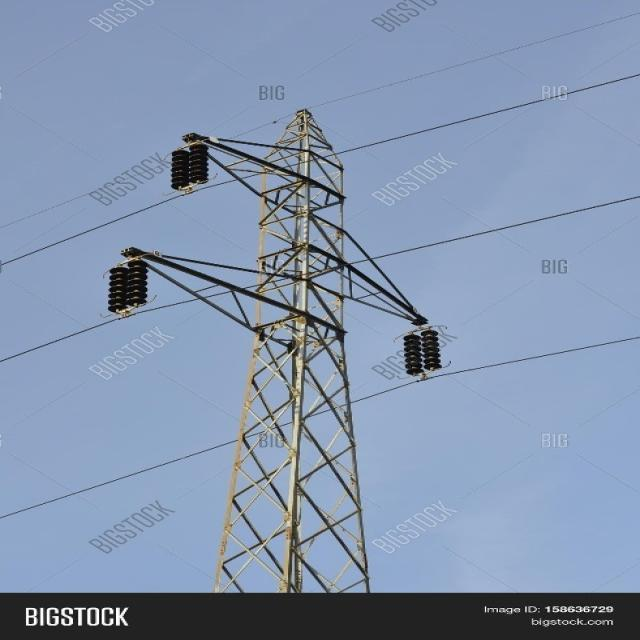non-critical vegetation: (108, 107, 456, 591)
